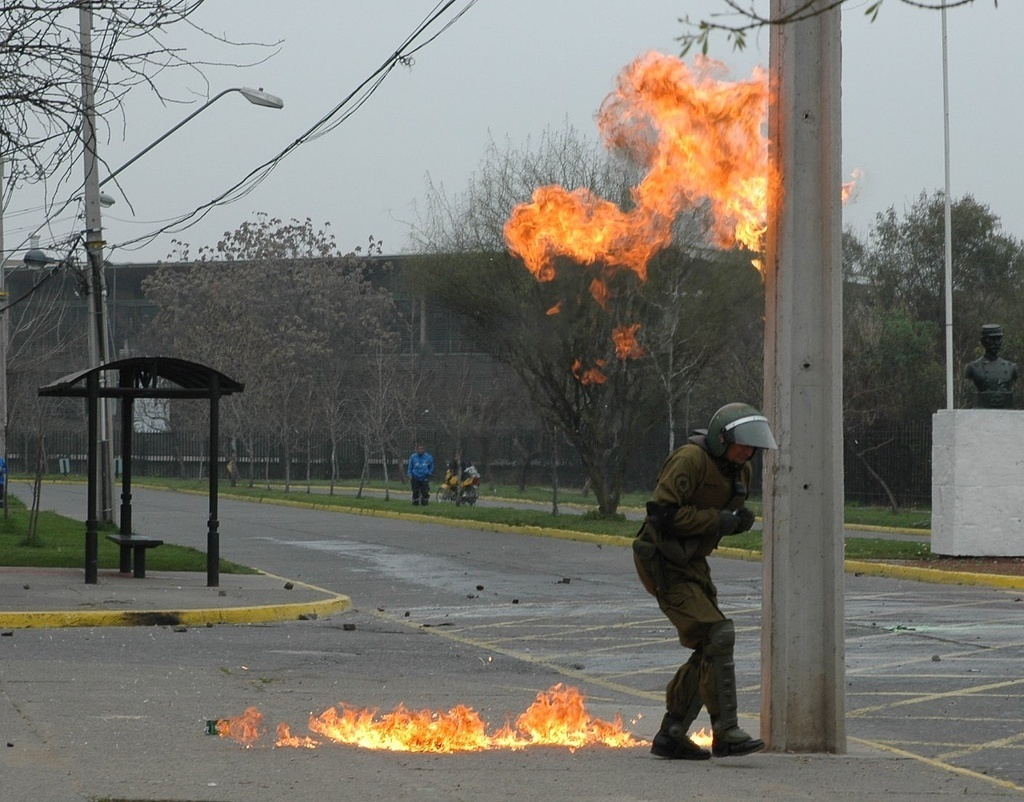fire: (502, 53, 784, 272), (222, 686, 662, 759), (838, 164, 861, 202)
